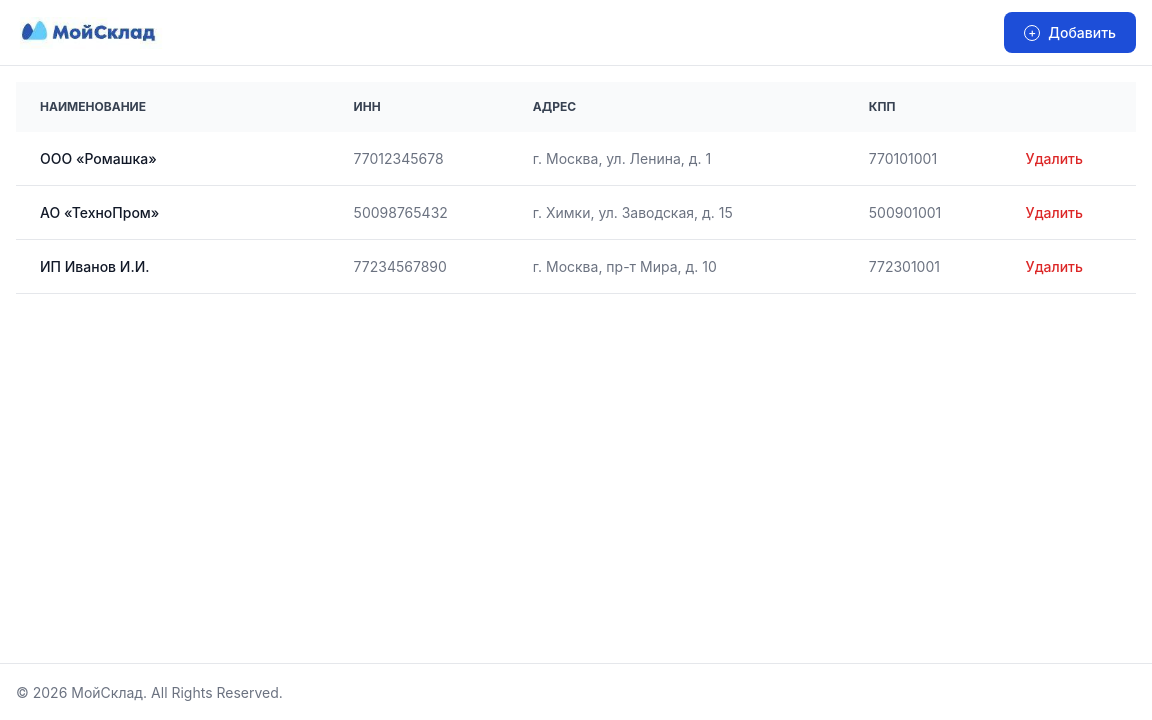
Test: App › deletes a contragent from the table
The width and height of the screenshot is (1152, 720).
Expected: the column heading "ООО «Ромашка»" is shown, x1=16 y1=132 x2=330 y2=186
Click the button "Удалить" in the row of "ООО «Ромашка»" at (1054, 158), box x1=1026 y1=148 x2=1083 y2=169
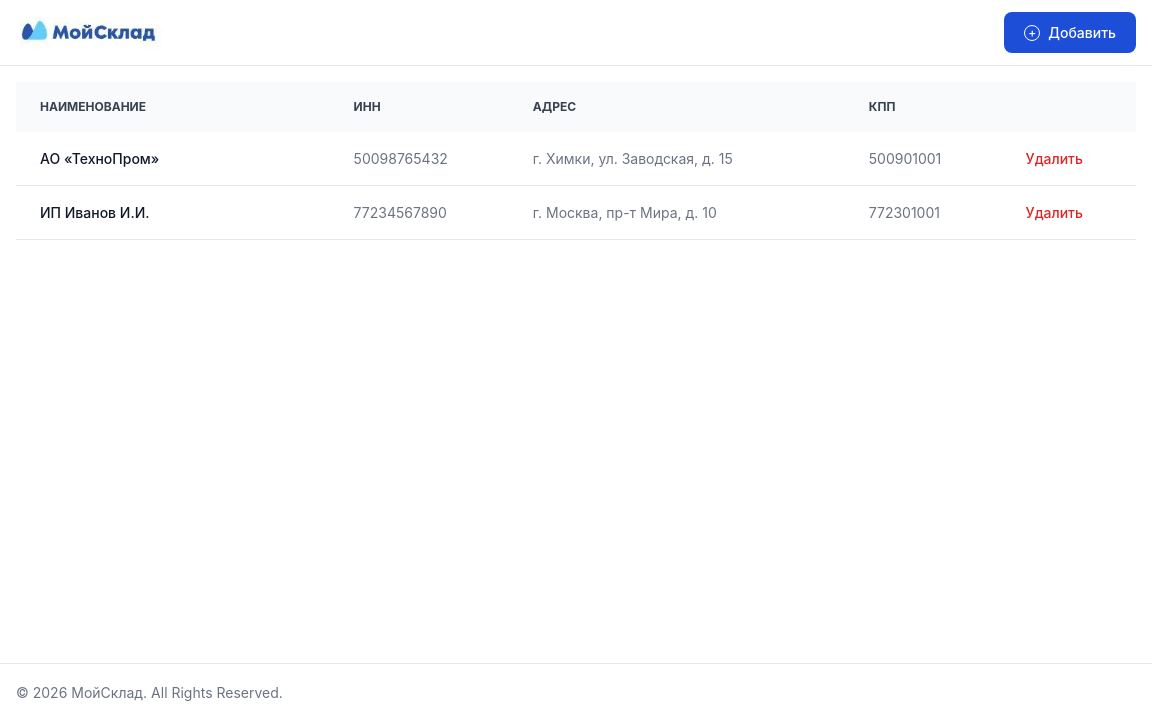
Expected: the column heading "ООО «Ромашка»" is gone
